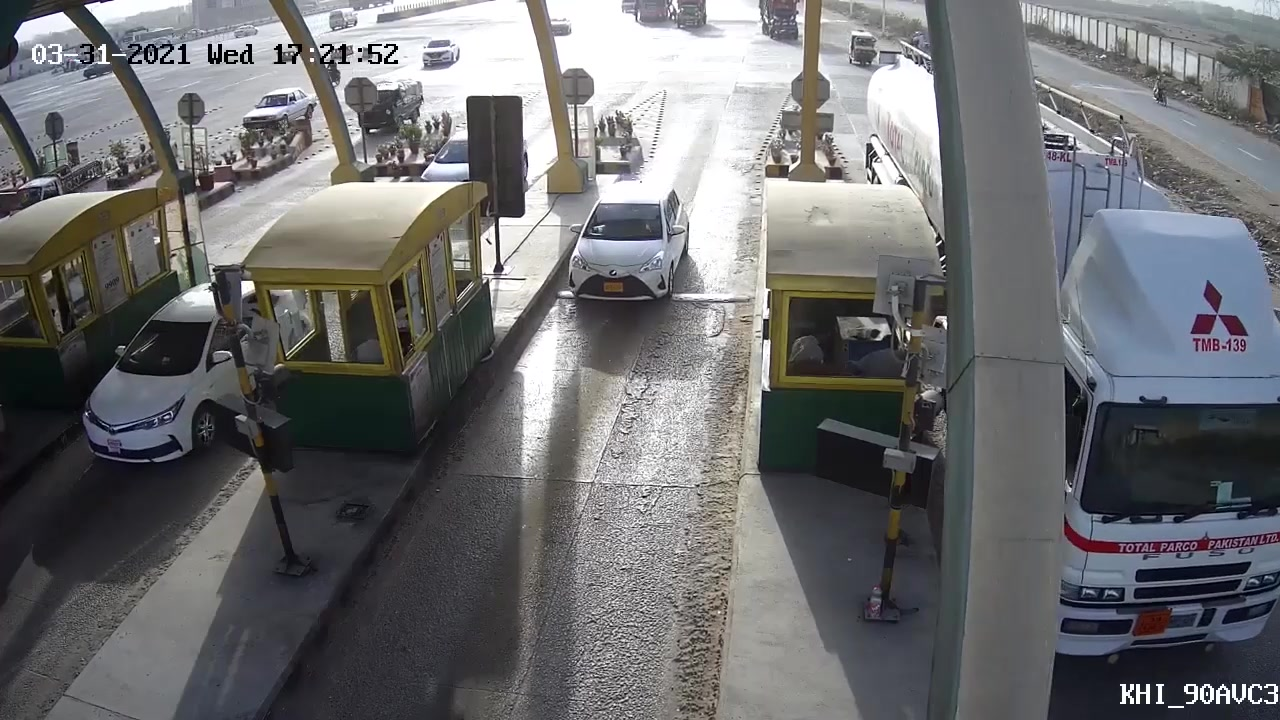F1: (563, 182, 703, 323)
